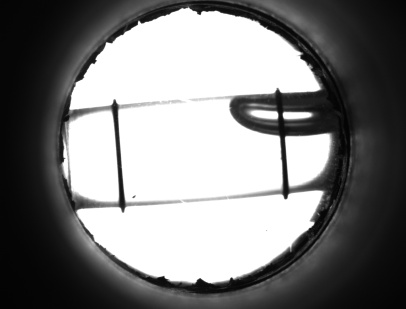line: (109, 120, 128, 193), (275, 142, 292, 182)
